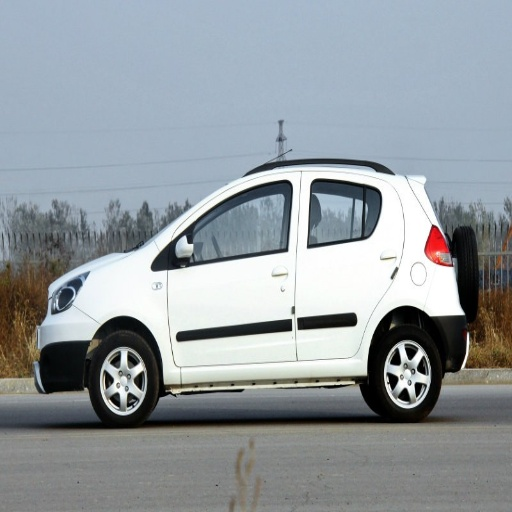back_left_door: (297, 174, 400, 359)
front_left_door: (168, 176, 298, 378)
